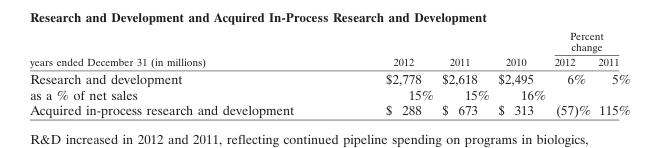table: (29, 29, 629, 117)
table column: (29, 29, 339, 117), (339, 29, 437, 117), (437, 29, 493, 117), (493, 29, 549, 117), (549, 29, 593, 117), (593, 29, 629, 117)
table column header: (29, 29, 629, 69)
table row: (29, 29, 629, 53), (29, 69, 629, 86), (29, 53, 629, 69), (29, 101, 629, 117), (29, 86, 629, 101)
table spanning cell: (29, 29, 339, 69), (339, 29, 437, 69), (437, 29, 493, 69), (493, 29, 549, 69), (549, 29, 629, 53)
